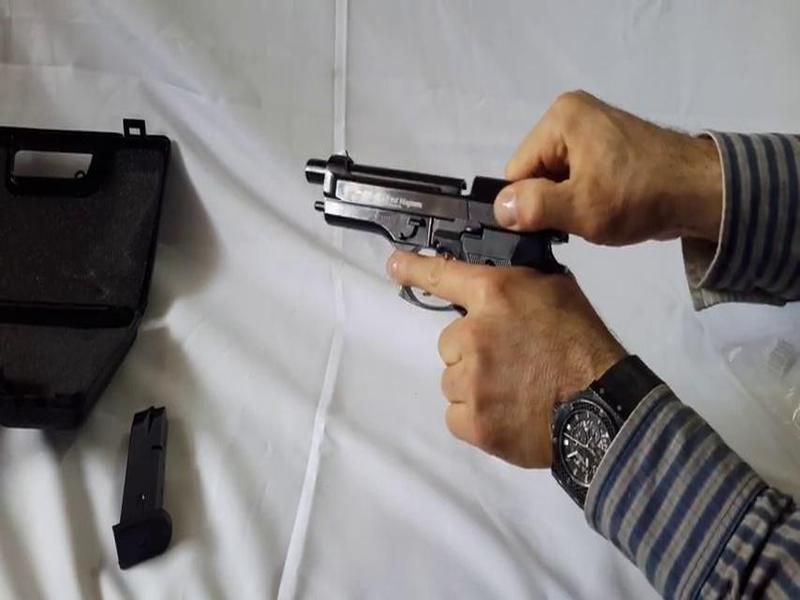Pistola: (276, 131, 592, 383)
